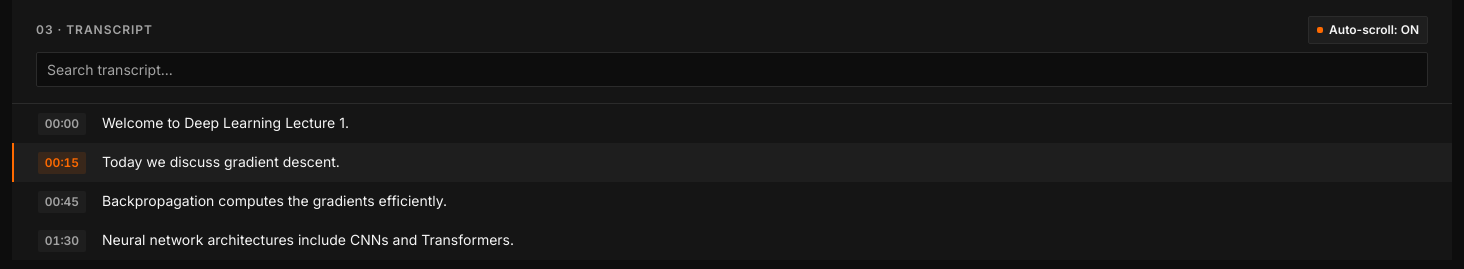
WCAG 2.2 AA Accessibility Audit › 3. Screen Reader Audit › verifies TranscriptPanel search input has live hit count announcements
The image size is (1464, 269).
Note: Type search query matching exactly 1 item
Type "Backpropagation" into the field named "Filter transcript by text" at coordinates (732, 70), box [36,52,1428,87]
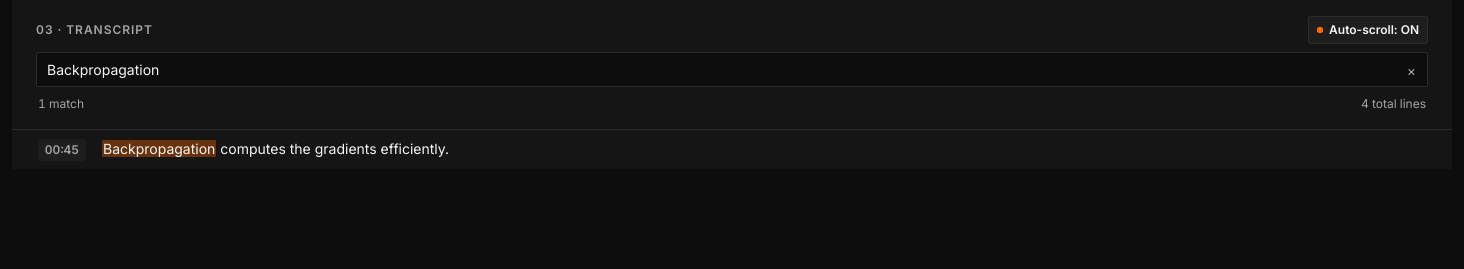
Now the message shows "1 match", box [36,95,1428,113]
Now the message shows "4 total lines", box [36,95,1428,113]
Note: Type search query matching 2 items
Replace the text in the field named "Filter transcript by text" with "gradient" at coordinates (732, 70), box [36,52,1428,87]
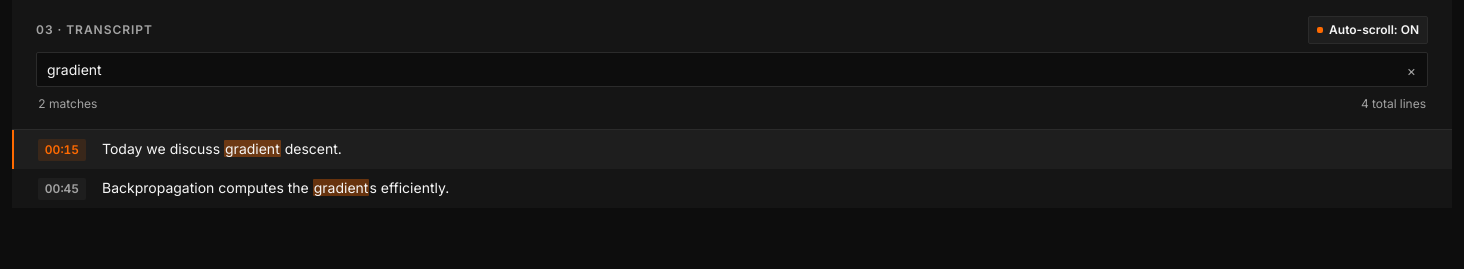
Now the message shows "4 total lines", box [36,95,1428,113]
Now the message shows "2 matches", box [36,95,1428,113]
Note: Clear search
Click the button named "Clear search query" at coordinates (1411, 70), box [1401,57,1422,82]
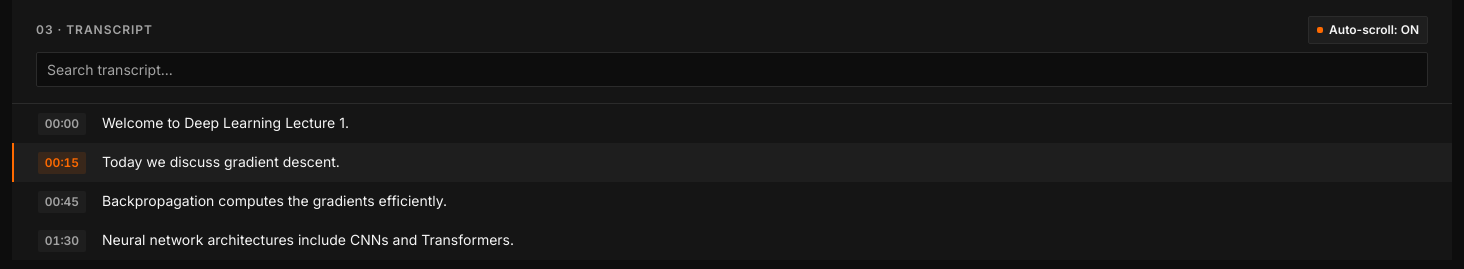
Now the message "2 matches 4 total lines" is gone
